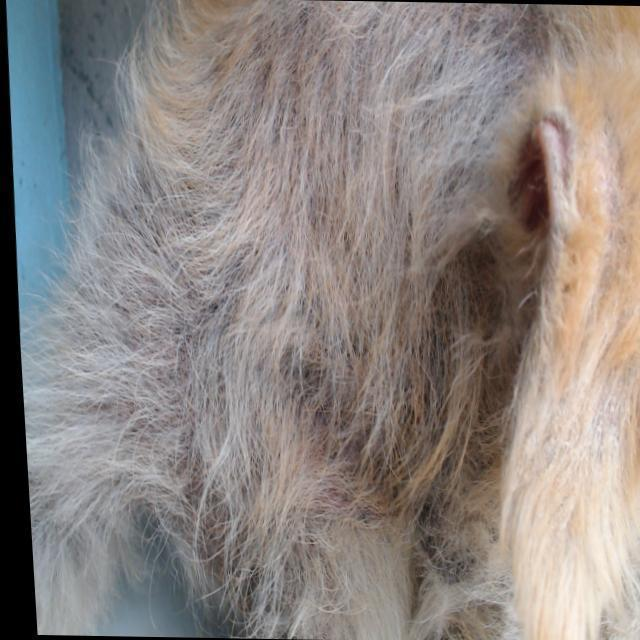mange: (180, 1, 504, 558), (518, 119, 574, 222)
